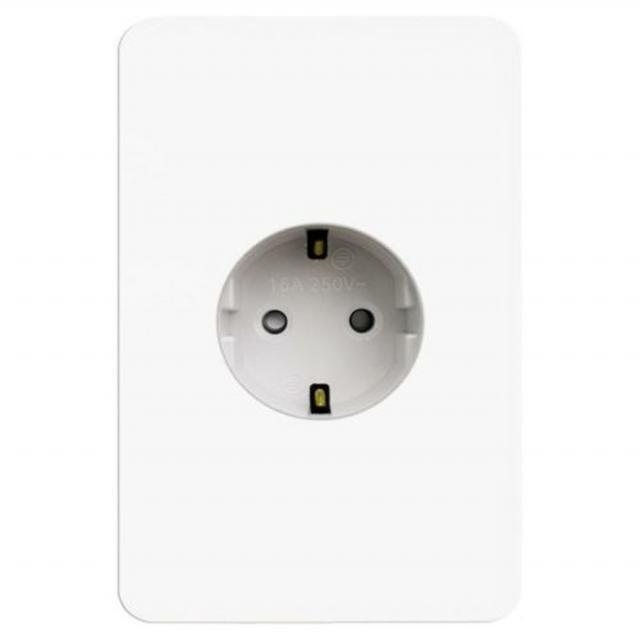typeb: (67, 16, 567, 640)
